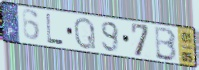6: (22, 7, 42, 45)
7: (130, 21, 151, 59)
9: (100, 21, 120, 53)
B: (154, 26, 179, 63)
L: (45, 12, 65, 47)
Q: (74, 16, 98, 51)
